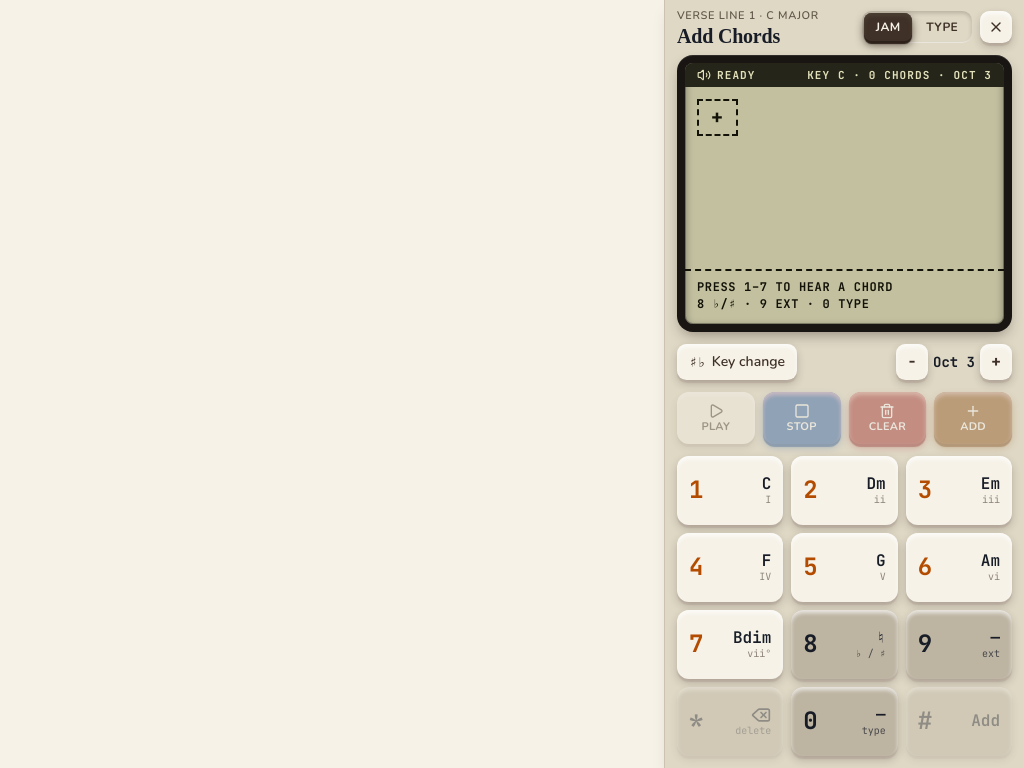
Test: JamCanvas › key change › tapping the key object reopens the list
Step 1. Click the button named "1, " → (730, 490), box [677,456,783,525]
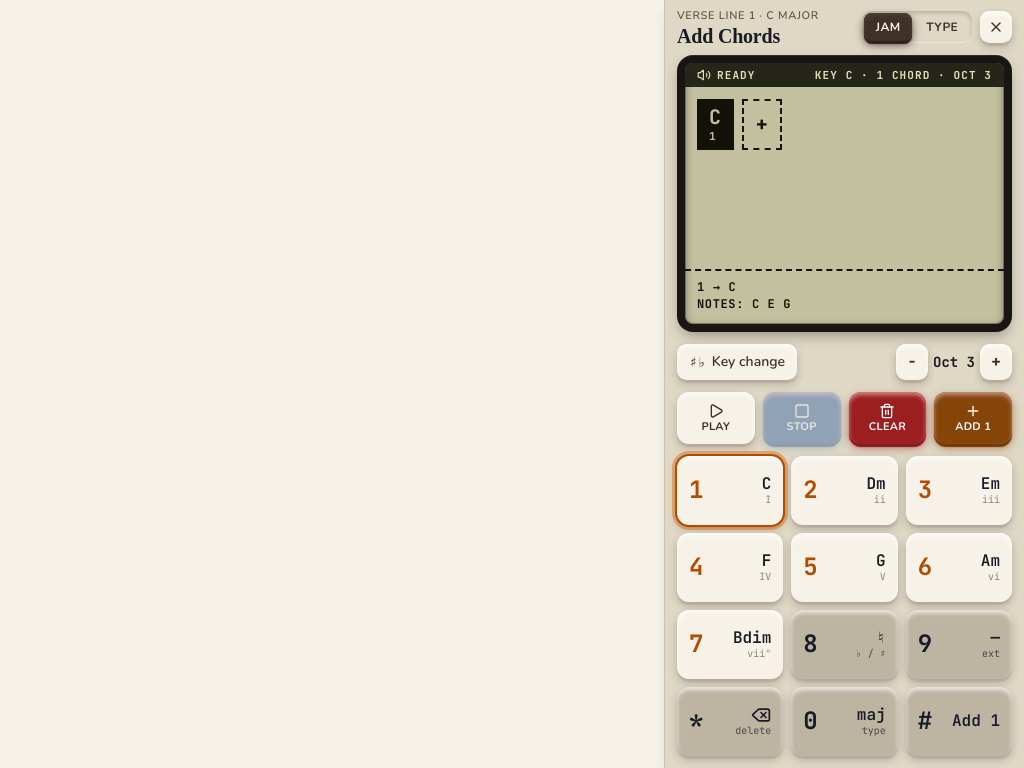
Step 2. Click the button "♯♭ Key change" → (737, 362), box [677,344,797,380]
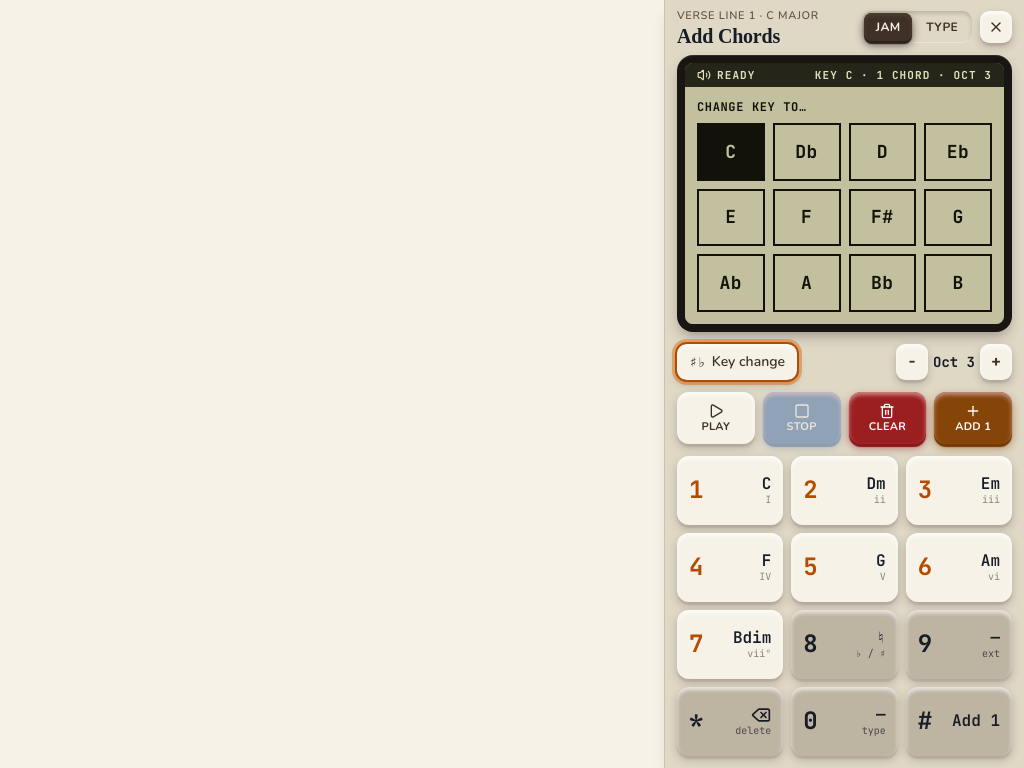
Step 3. Click the button named "Key of G" → (958, 217), box [924,188,992,246]
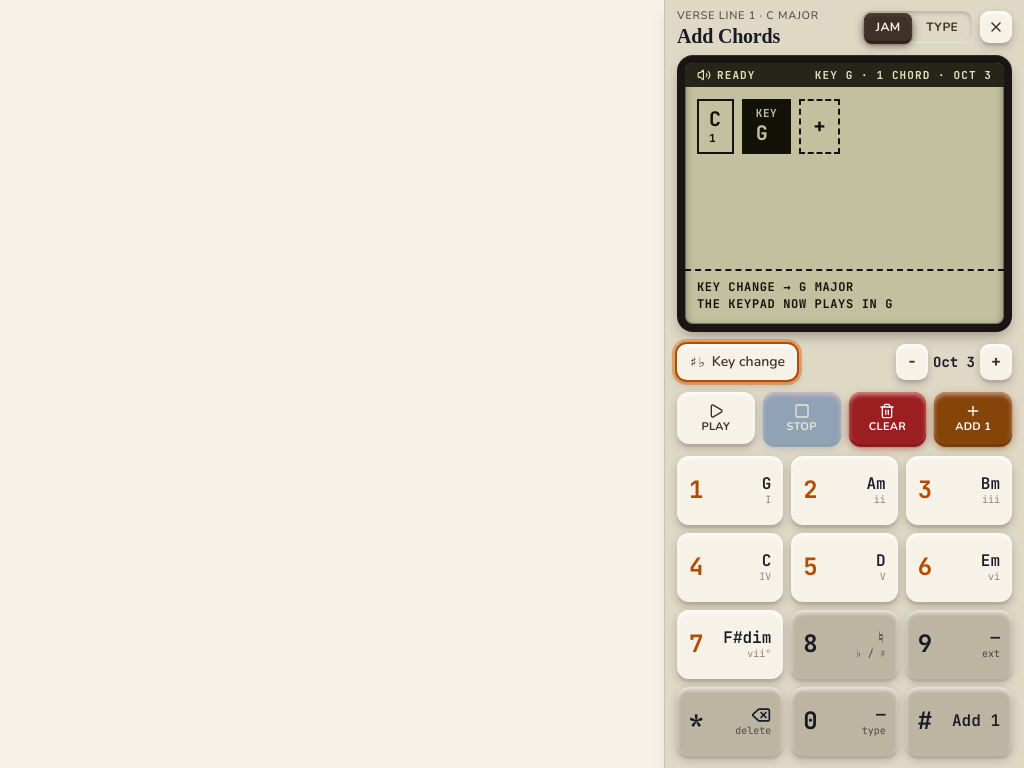
Step 4. Click the option with aria-label "Key change to G" → (766, 126), box [742,99,791,154]
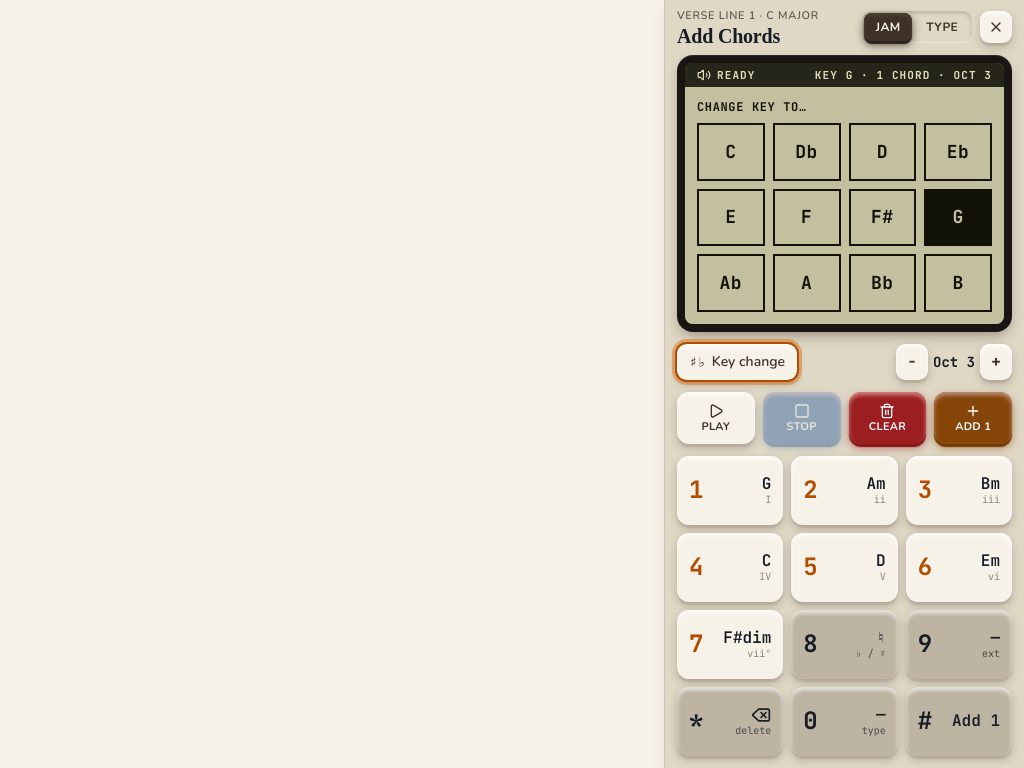
Check: the button named "Key of G" is pressed, box [924,188,992,246]
